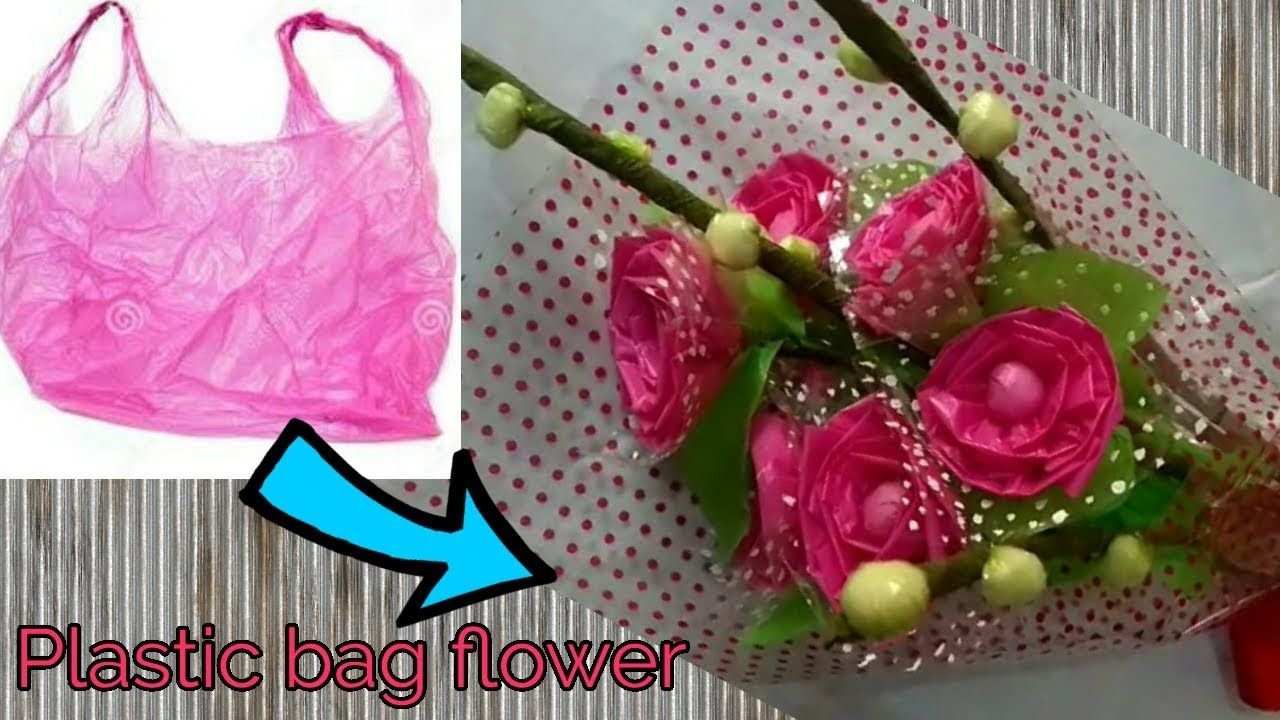plastic_bag: (1, 1, 457, 456)
